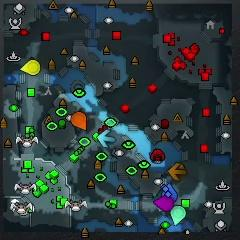p1: (162, 183, 177, 200)
p2: (171, 206, 186, 225)
p3: (154, 197, 175, 212)
p4: (20, 60, 41, 75)
p5: (71, 112, 87, 131)
x3: (97, 130, 116, 147)
x5: (169, 163, 187, 180)
